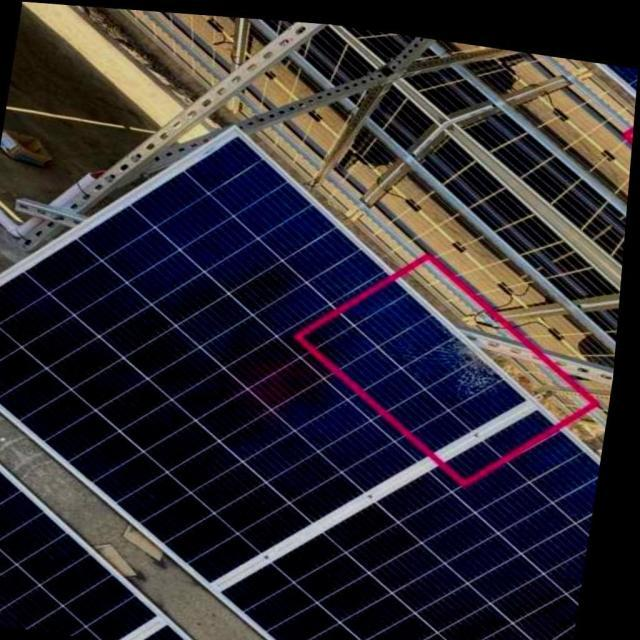cracked: (402, 322, 511, 417)
